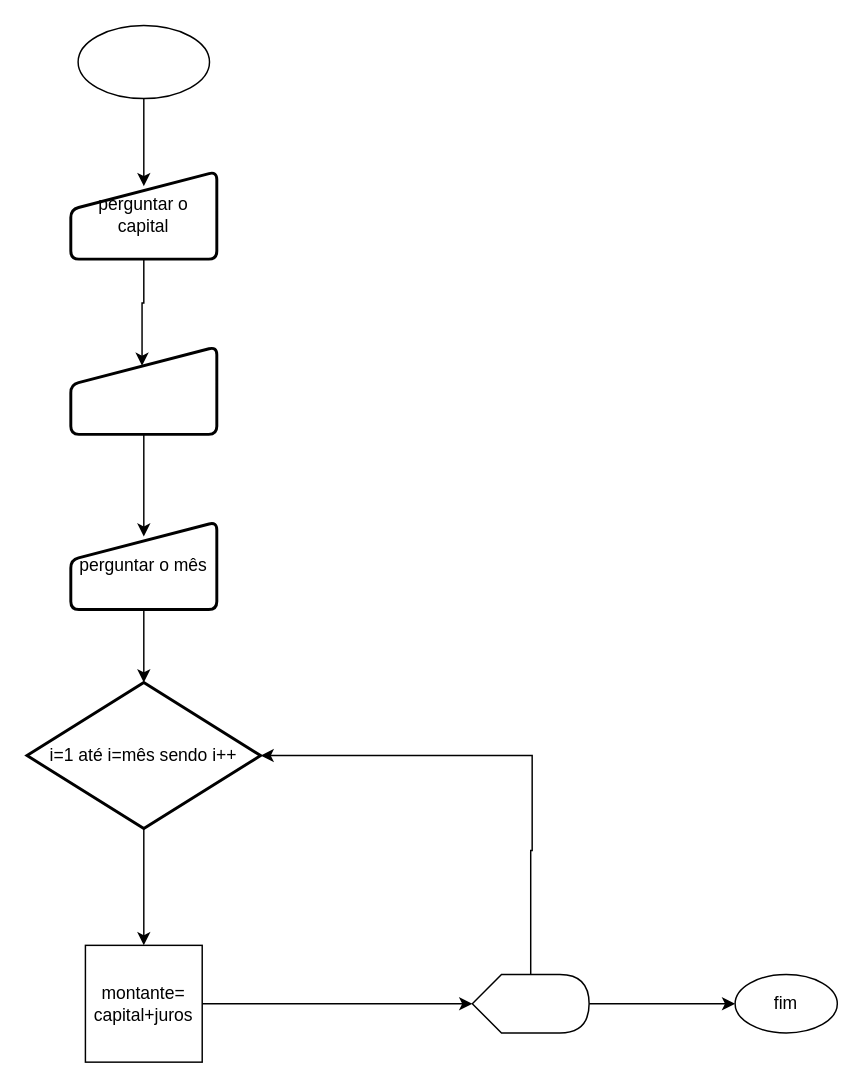
The diagram is 863 pixels wide and 1088 high, and some of its shapes have lost their labels. Each missing label, with the centre of its shape:
imprimir o resultado: point 530,1003
início: point 143,61
perguntar o juros: point 143,390
